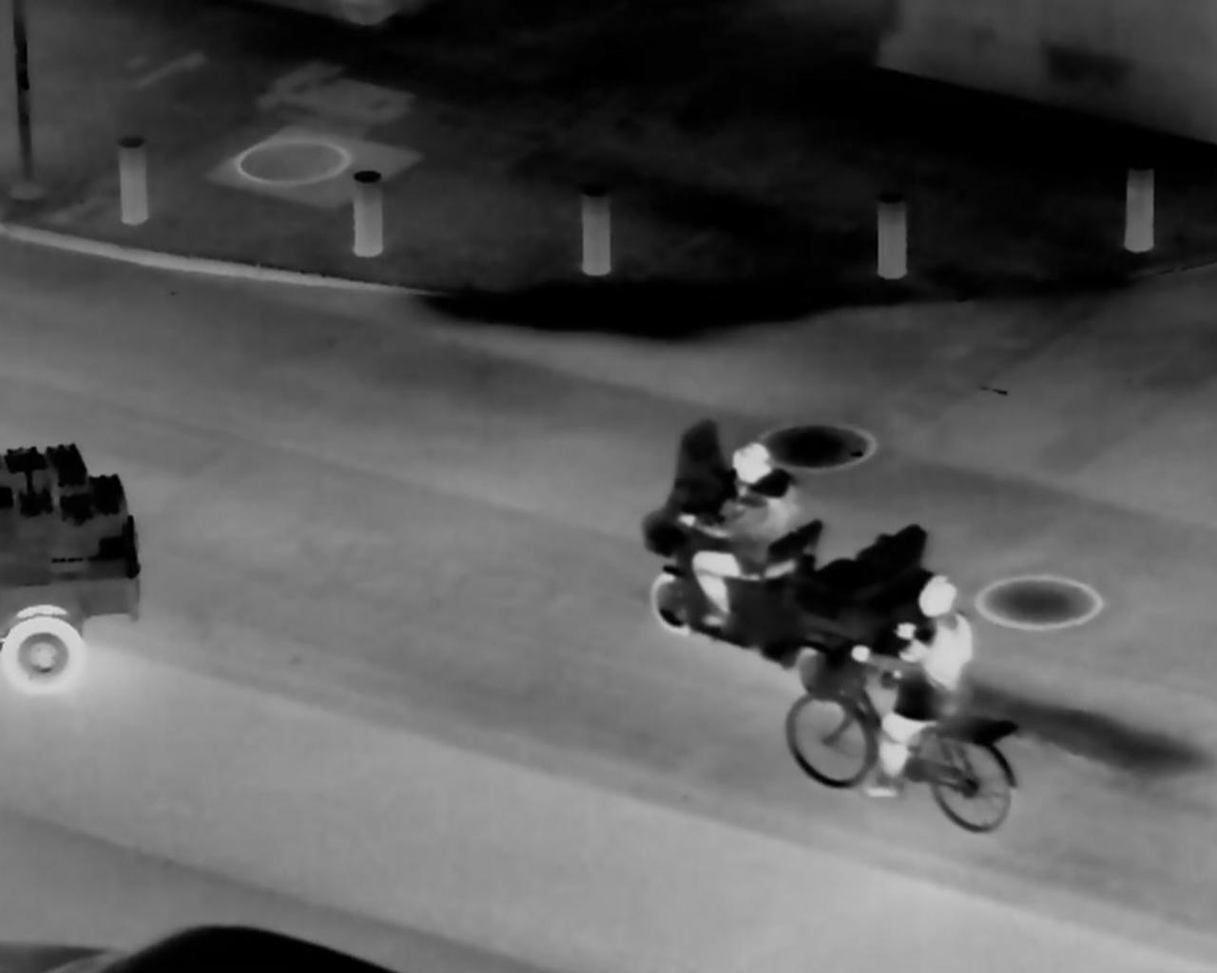person: (866, 559, 987, 808), (679, 439, 798, 626)
